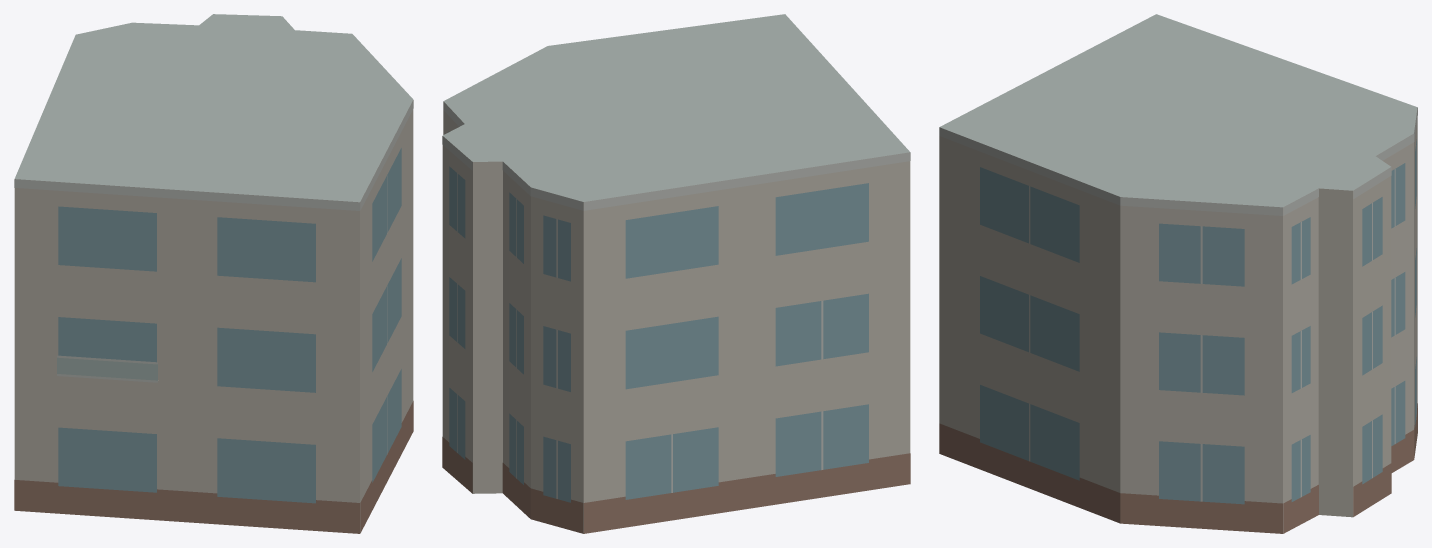
Rendered from survey-upis-32641140.glb.
The picture shows the model from 3 angles, left to right: view 1: azimuth 30°, elevation 25°; view 2: azimuth 150°, elevation 25°; view 3: azimuth 270°, elevation 25°; orthographic projection.
Visible parts, largest first — view 1: survey-upis-32641140.tmp; view 2: survey-upis-32641140.tmp; view 3: survey-upis-32641140.tmp.
Part boxes in pixels (left/top/right/bottom): survey-upis-32641140.tmp: left=14, top=14, right=413, bottom=533; survey-upis-32641140.tmp: left=442, top=14, right=910, bottom=533; survey-upis-32641140.tmp: left=939, top=14, right=1417, bottom=533.
Size of the model in its own units: 11.63 by 9.15 by 12.16.
